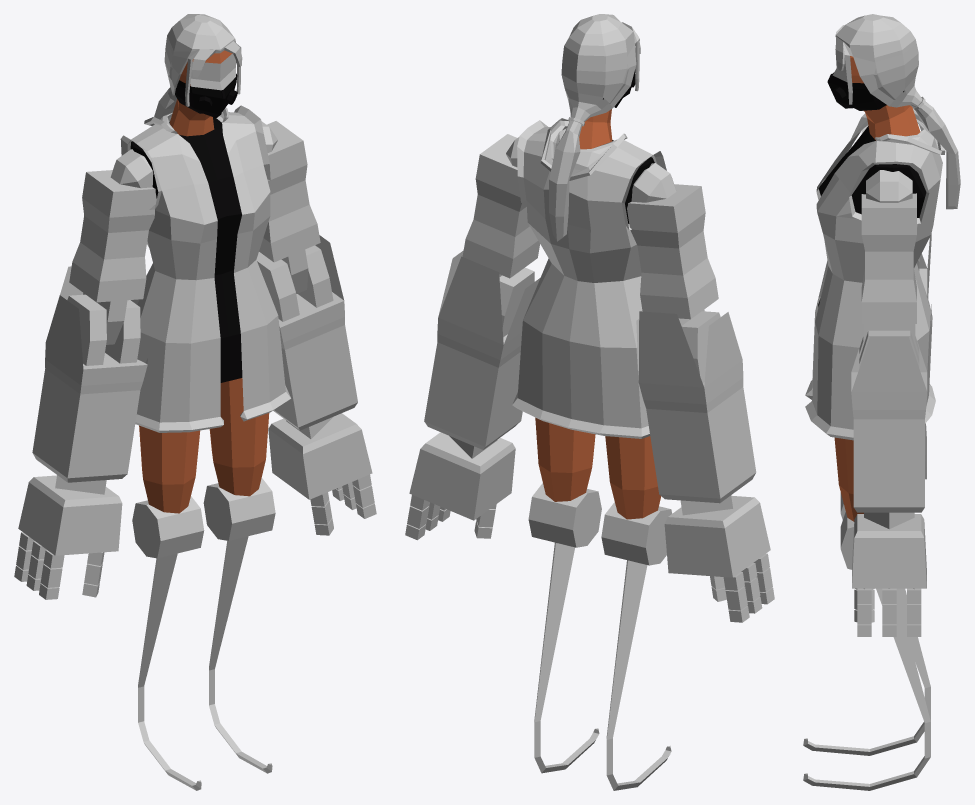
Rendered from Eliza.obj.
3 views of the same model, side by side, from view 1: azimuth 30°, elevation 25°; view 2: azimuth 150°, elevation 25°; view 3: azimuth 270°, elevation 25° (orthographic). The views are drawn at different scales.
Visible parts, largest first — view 1: Face_Mask_Mouth; view 2: Face_Mask_Mouth; view 3: Face_Mask_Mouth.
Boxes of the visible parts, left/top/right/bottom form: Face_Mask_Mouth: left=14, top=14, right=376, bottom=790; Face_Mask_Mouth: left=405, top=14, right=774, bottom=790; Face_Mask_Mouth: left=803, top=14, right=960, bottom=790.
Bounding box in the file's own units: 1.56 × 3.36 × 0.6341.
